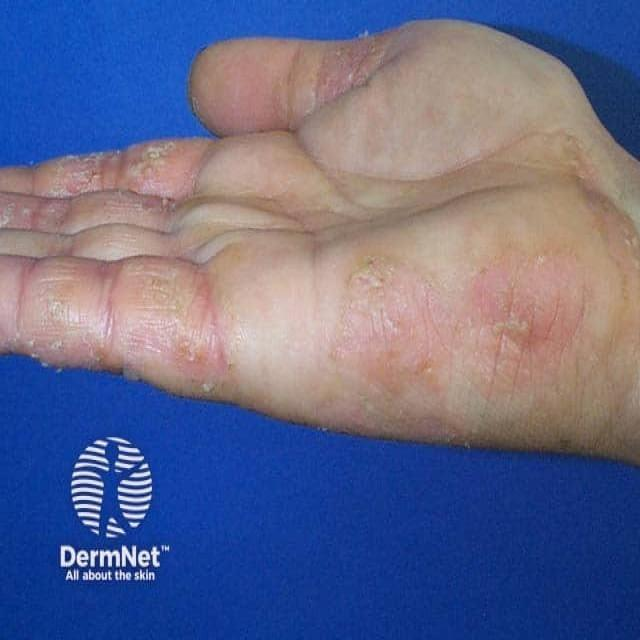Eczema: (0, 34, 576, 380)
